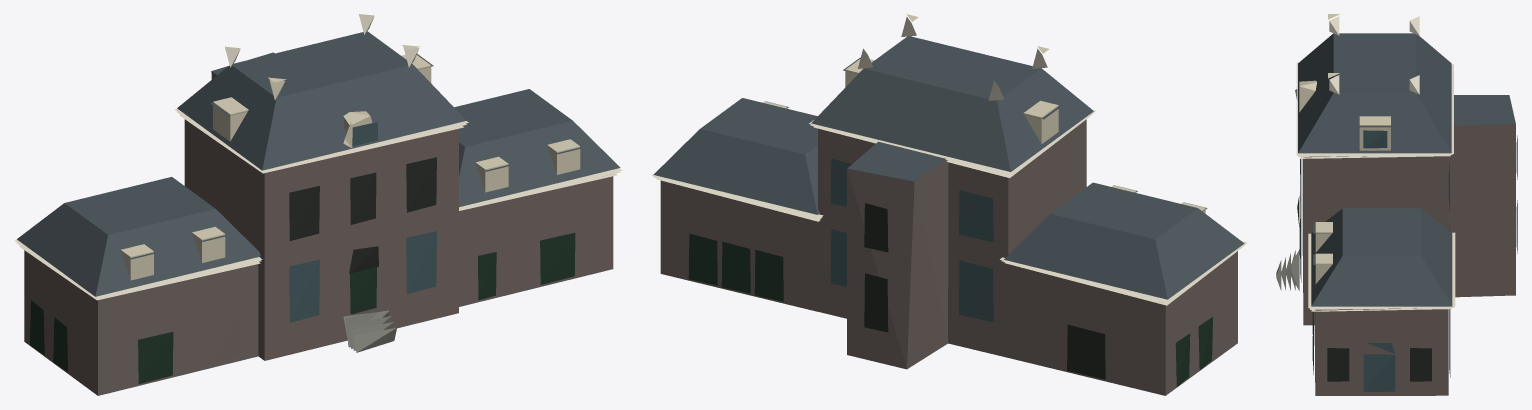
File: huize-frankendael.lod2.glb
3 renders of one model, left to right at view 1: azimuth 30°, elevation 25°; view 2: azimuth 150°, elevation 25°; view 3: azimuth 270°, elevation 25°, orthographic. The views are drawn at different scales.
Parts seen in each view (by area): view 1: lod2; view 2: lod2; view 3: lod2.
Part boxes in pixels (<box>): lod2: <box>14,14,622,395</box>; lod2: <box>651,14,1247,395</box>; lod2: <box>1276,14,1517,395</box>.
Size of the model in its own units: 33.15 by 15.73 by 14.59.
